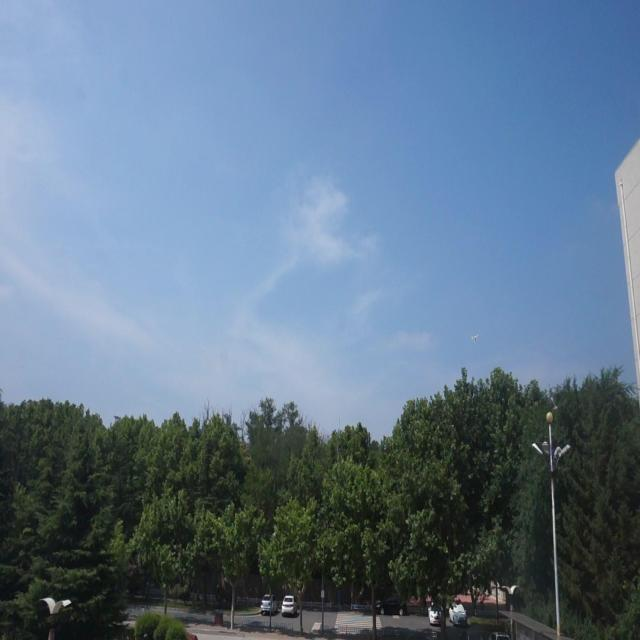drone: (468, 328, 482, 348)
